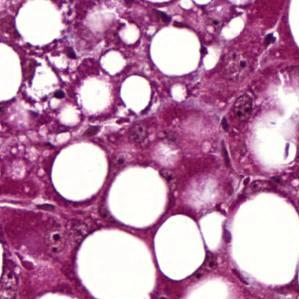steatosis: (47, 141, 111, 204), (152, 216, 209, 284), (149, 22, 204, 77)
